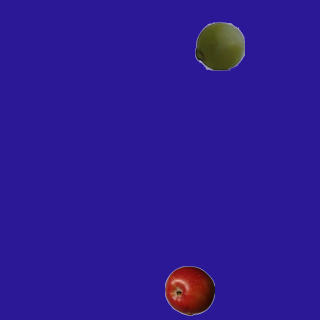Apple Braeburn: (164, 265, 214, 315)
Grape White 4: (194, 20, 244, 70)
